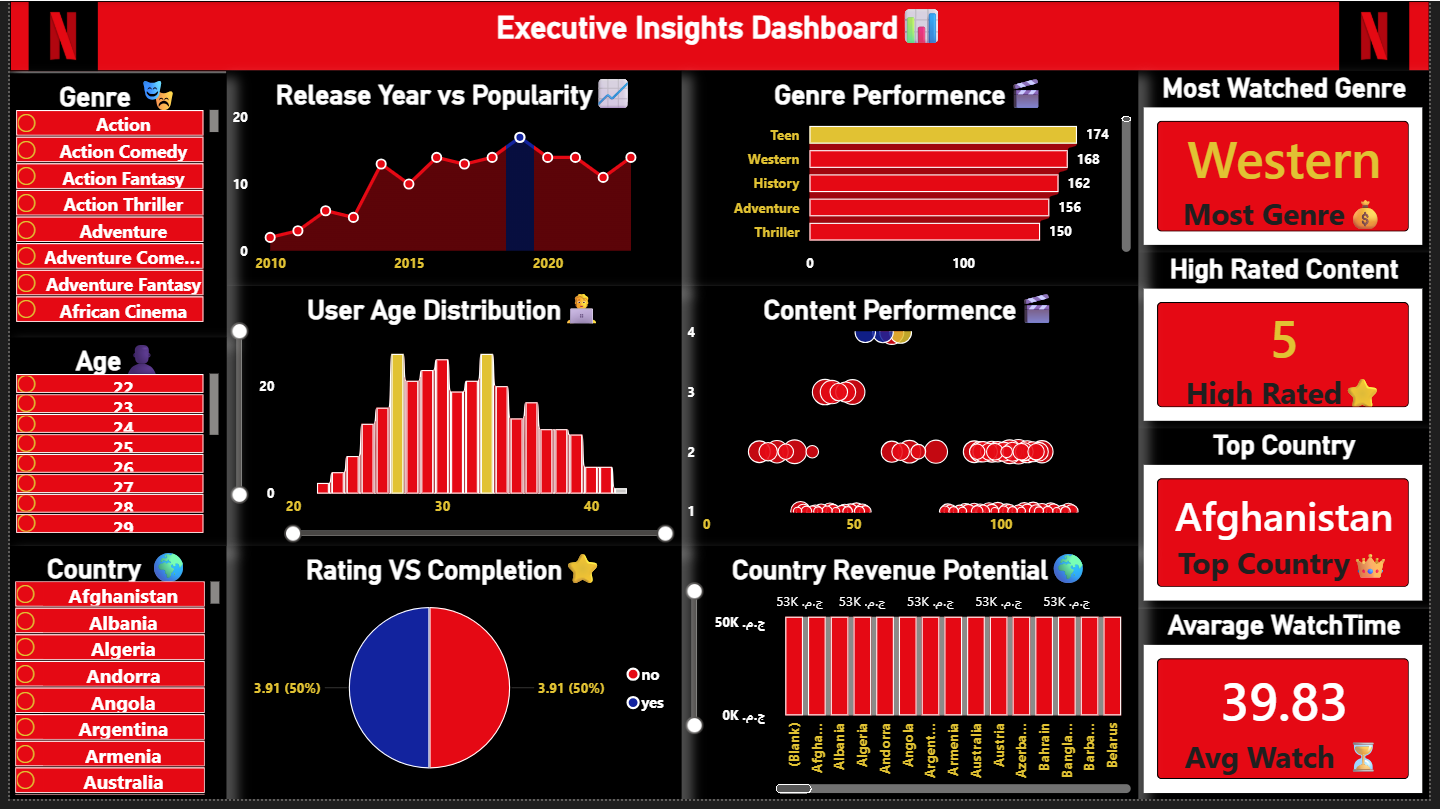

The dashboard page shown, as its layout file describes it:
{"tool":"powerbi","page":{"name":"Executive Insights Dashboard","canvas":[1280,720],"ordinal":3},"visuals":[{"type":"textbox","title":"Executive Insights Dashboard📊","box":[0,0,1280.3,63.1],"z":0},{"type":"image","box":[0,0,96.1,63.1],"z":1000},{"type":"image","box":[1180.1,0,100.2,63.1],"z":2000},{"type":"cardVisual","title":"Most Watched Genre","fields":{"Data":["Watch_history.Most Watched Genre"]},"box":[1016.8,63.1,263.5,163.3],"z":3000},{"type":"cardVisual","title":"High Rated Content","fields":{"Data":["Max(Rating.Rate_score)"]},"box":[1016.8,226.4,263.5,159.2],"z":4000},{"type":"cardVisual","title":"Top Country ","fields":{"Data":["Min(Country.Country_name)"]},"box":[1016.8,385.6,263.5,161.9],"z":5000},{"type":"cardVisual","title":"Avarage WatchTime","fields":{"Data":["Content.Avg Watch per User"]},"box":[1016.8,547.5,263.5,172.9],"z":6000},{"type":"barChart","title":"Genre Performence🎬","fields":{"Category":["Genre.Genre_name"],"Y":["Sum(Watch_history.Watch_id)"]},"box":[605.1,63.1,411.7,193.5],"z":7000},{"type":"scatterChart","title":"Content Performence🎬","fields":{"X":["Avg(Rating.Rating_id)"],"Y":["CountNonNull(Watch_history.Watch_id)"],"Size":["Sum(Watch_history.Watch_duration)"],"Category":["Content.Title"]},"box":[605.1,256.6,411.7,234.6],"z":8000},{"type":"columnChart","title":"Country Revenue Potential🌍","fields":{"Category":["Country.Country_name"],"Y":["Sum(Supscription_plan.Monthly_price)"]},"box":[605.1,491.3,411.7,229.2],"z":9000},{"type":"lineChart","title":"Release Year vs Popularity📈","fields":{"Category":["Content.Release_year"],"Y":["CountNonNull(Watch_history.Watch_id)"]},"box":[194.9,63.1,410.3,193.5],"z":10000},{"type":"columnChart","title":"User Age Distribution🧑💻","fields":{"Category":["Users.Age"],"Y":["CountNonNull(Users.User_id)"]},"box":[194.9,256.6,410.3,234.6],"z":11000},{"type":"pieChart","title":"Rating VS Completion⭐","fields":{"Category":["Watch_history.Compeleted"],"Y":["Avg(Rating.Rate_score)"]},"box":[194.9,491.3,410.3,229.2],"z":12000},{"type":"listSlicer","title":"Genre 🎭","fields":{"Values":["Genre_Types.Genre_name"]},"box":[0,65.9,194.9,237.4],"z":13000},{"type":"listSlicer","title":"Age👤","fields":{"Values":["Users.Age"]},"box":[0,303.3,194.9,188],"z":14000},{"type":"listSlicer","title":"Country 🌍","fields":{"Values":["Country.Country_name"]},"box":[0,491.3,194.9,229.2],"z":15000}]}

Visuals, with their boxes in screenshot pixels (x1, y1, x2, y2), scaled from the page's 1280x720 canvas onto the 1440x809 screenshot:
"Executive Insights Dashboard📊" textbox: select_region(0, 0, 1439, 71)
image: select_region(0, 0, 108, 71)
image: select_region(1328, 0, 1439, 71)
"Most Watched Genre" cardVisual: select_region(1144, 71, 1439, 254)
"High Rated Content" cardVisual: select_region(1144, 254, 1439, 433)
"Top Country " cardVisual: select_region(1144, 433, 1439, 615)
"Avarage WatchTime" cardVisual: select_region(1144, 615, 1439, 808)
"Genre Performence🎬" barChart: select_region(681, 71, 1144, 288)
"Content Performence🎬" scatterChart: select_region(681, 288, 1144, 552)
"Country Revenue Potential🌍" columnChart: select_region(681, 552, 1144, 808)
"Release Year vs Popularity📈" lineChart: select_region(219, 71, 681, 288)
"User Age Distribution🧑💻" columnChart: select_region(219, 288, 681, 552)
"Rating VS Completion⭐" pieChart: select_region(219, 552, 681, 808)
"Genre 🎭" listSlicer: select_region(0, 74, 219, 341)
"Age👤" listSlicer: select_region(0, 341, 219, 552)
"Country 🌍" listSlicer: select_region(0, 552, 219, 808)
